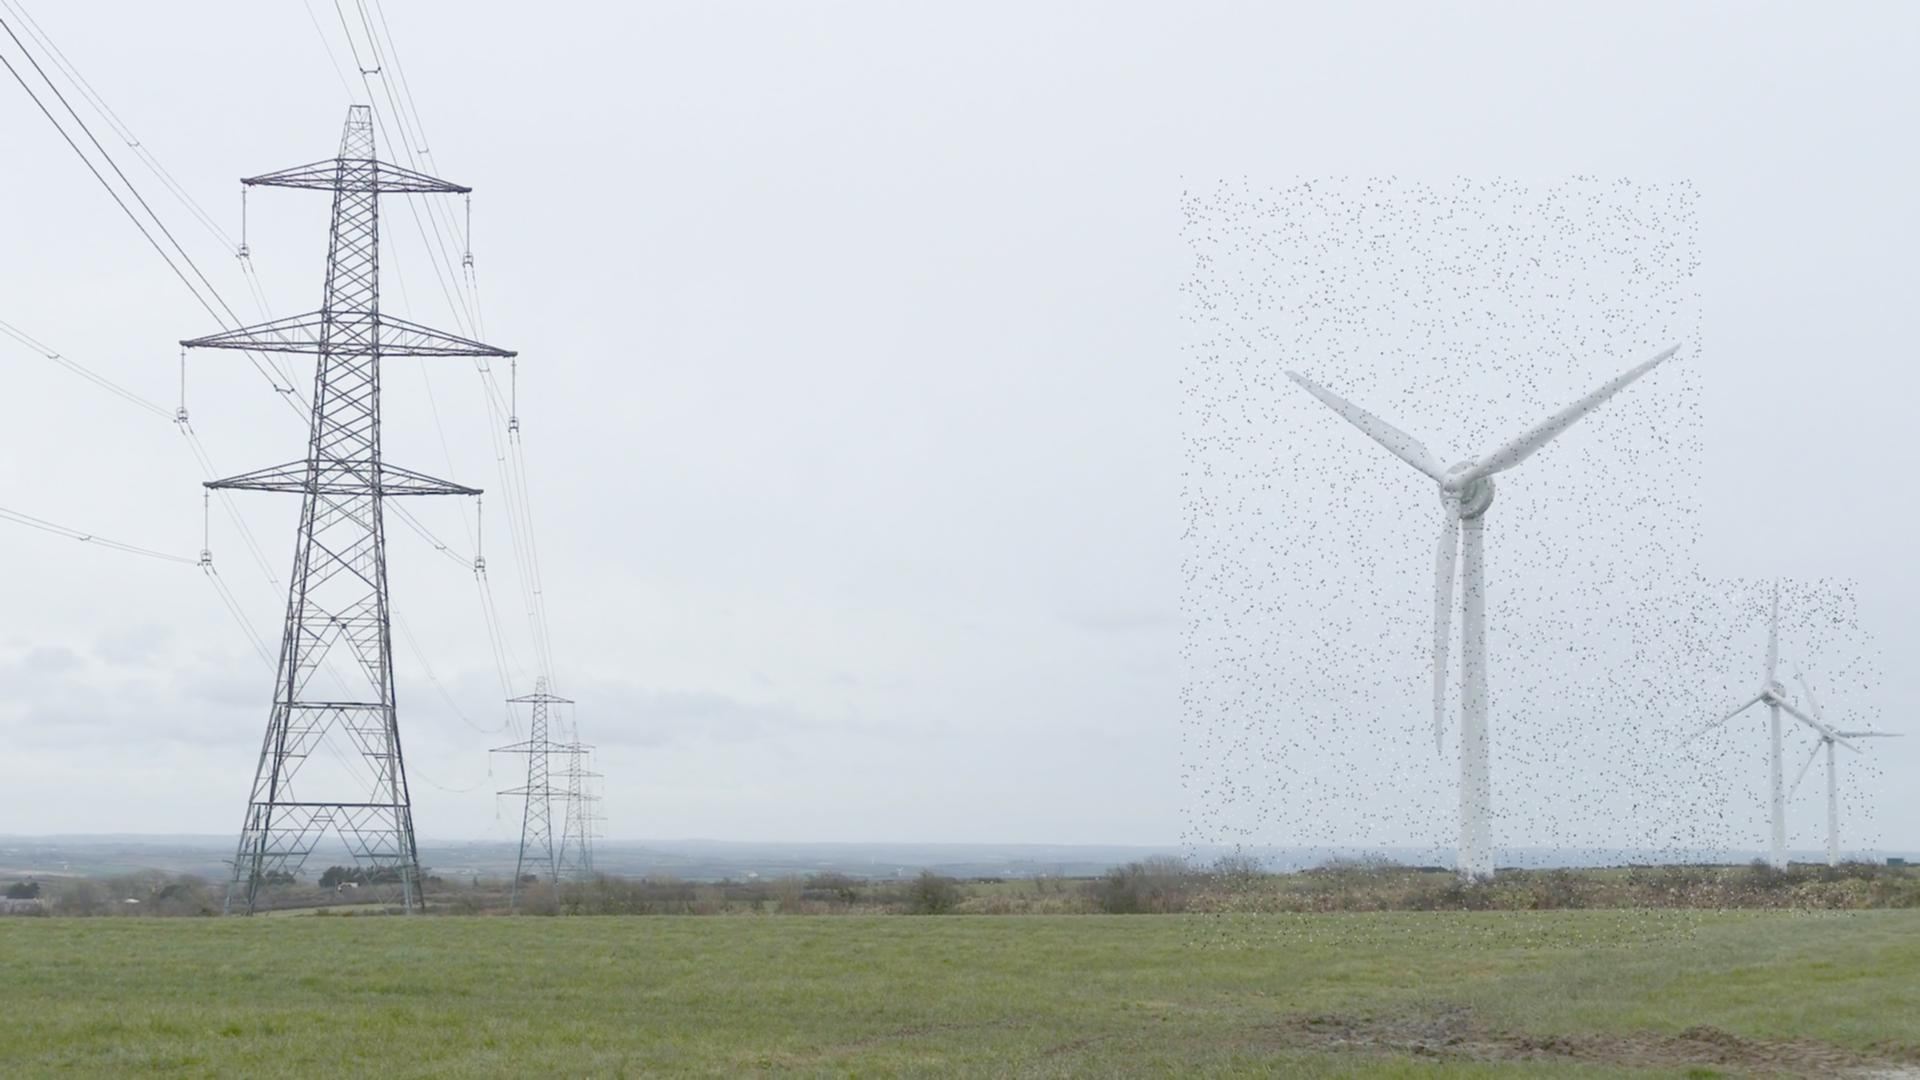cable tower: (171, 102, 521, 918), (491, 674, 588, 916), (549, 732, 603, 897), (570, 791, 611, 884)
turbine: (1180, 175, 1702, 949), (1627, 579, 1857, 918), (1727, 633, 1883, 887)
